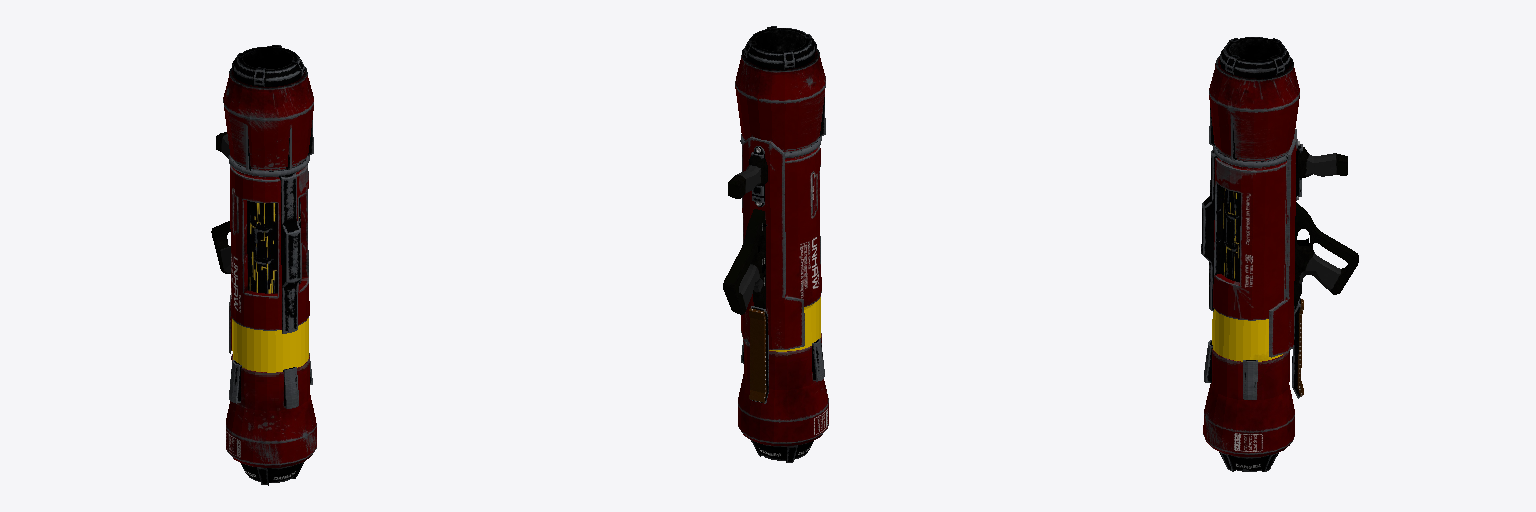
The picture shows the model from 3 angles: view 1: azimuth 30°, elevation 25°; view 2: azimuth 150°, elevation 25°; view 3: azimuth 270°, elevation 25°; orthographic projection.
Visible parts, largest first — view 1: defaultMaterial.030, defaultMaterial.015, defaultMaterial.008; view 2: defaultMaterial.030, defaultMaterial.008, defaultMaterial.029, defaultMaterial.027, defaultMaterial.015; view 3: defaultMaterial.030, defaultMaterial.008, defaultMaterial.015, defaultMaterial.027, defaultMaterial.029.
Part boxes in pixels (x1,y1,x2,y2): defaultMaterial.030: (223, 45, 316, 485); defaultMaterial.015: (232, 318, 308, 372); defaultMaterial.008: (211, 221, 230, 273); defaultMaterial.030: (735, 26, 828, 462); defaultMaterial.008: (723, 209, 765, 314); defaultMaterial.029: (749, 306, 768, 403); defaultMaterial.027: (728, 156, 767, 198); defaultMaterial.015: (769, 297, 820, 351); defaultMaterial.030: (1201, 37, 1299, 471); defaultMaterial.008: (1294, 202, 1358, 305); defaultMaterial.015: (1212, 309, 1282, 361); defaultMaterial.027: (1297, 147, 1347, 177); defaultMaterial.029: (1292, 298, 1303, 398).
Bounding box in the file's own units: 0.4036 × 2 × 0.6867.
1 materials, 1 textured.